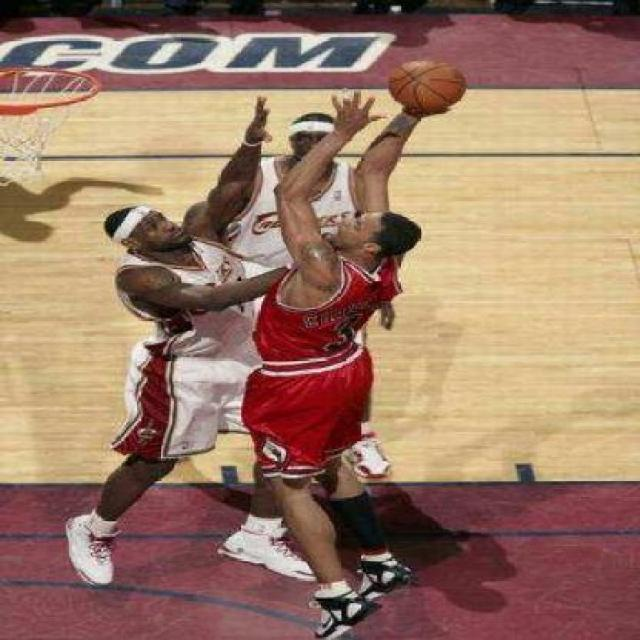basketball: (387, 57, 469, 115)
rim: (1, 66, 101, 186)
